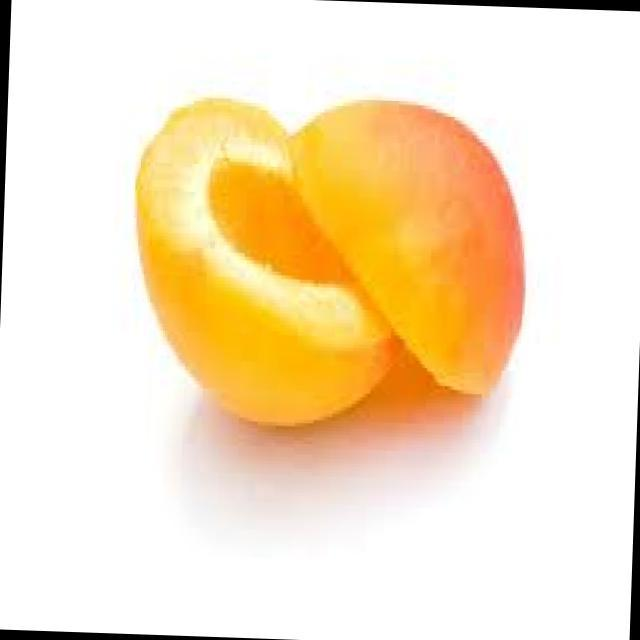Apricot: (107, 56, 568, 480)
